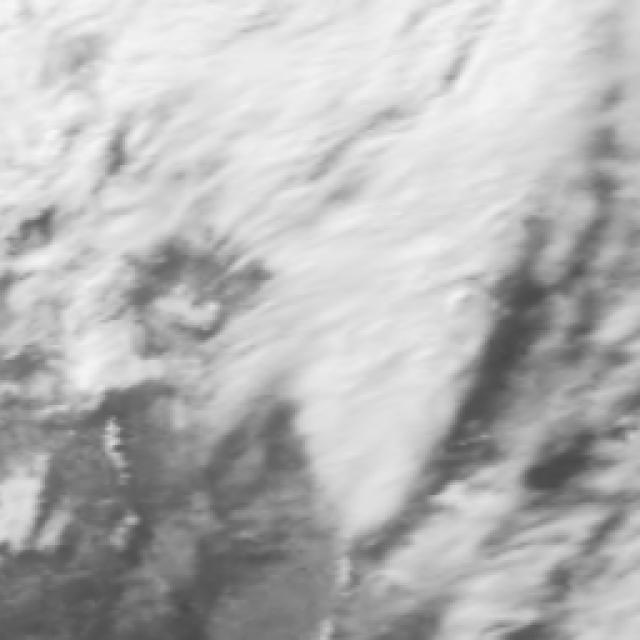CB: (380, 0, 577, 152), (282, 158, 462, 323), (0, 0, 205, 142), (200, 0, 368, 155), (315, 332, 443, 469)
